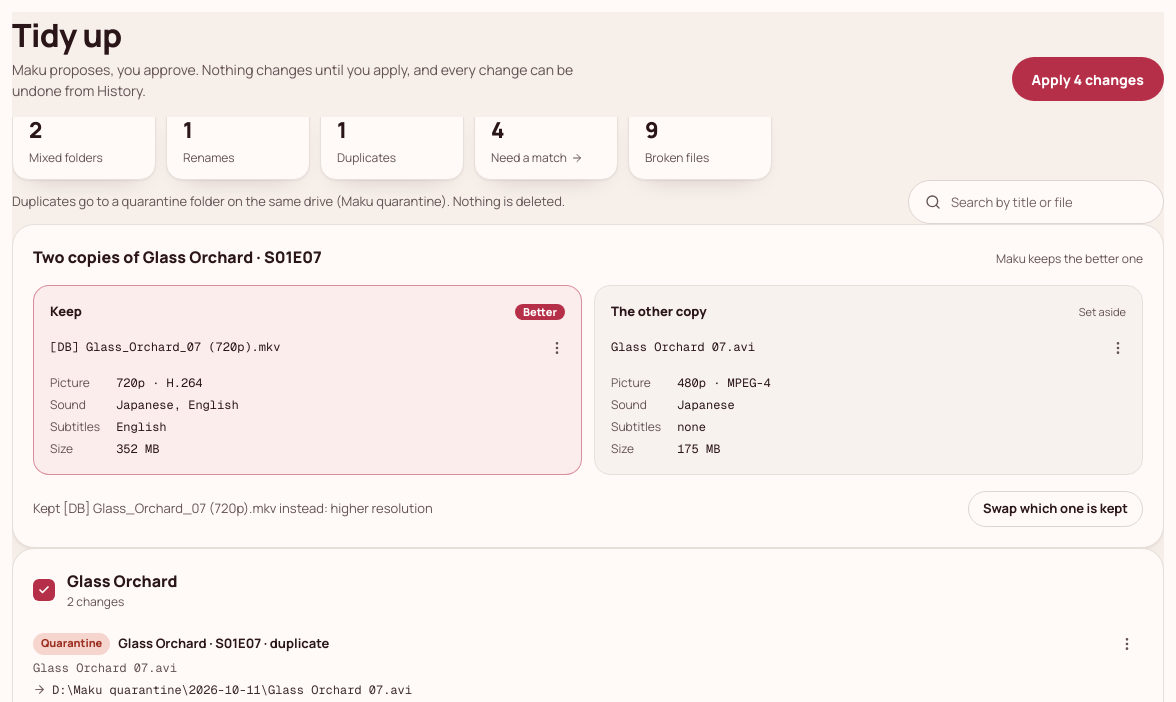
Test: TidyPage › says so when the proposal changed since it was shown
The width and height of the screenshot is (1176, 702).
Click the button "Apply 4 changes". click: (1088, 79)
box: [1012, 57, 1164, 101]
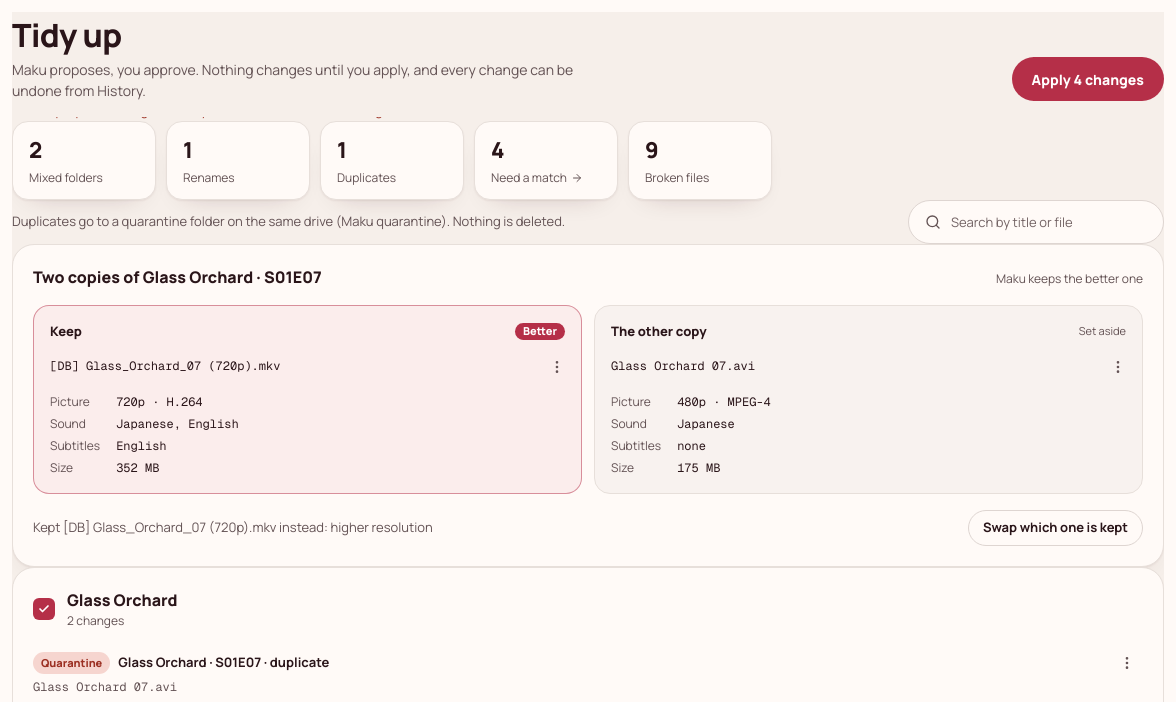
expect the message reads "Maku's proposal changed since you looked at it. Look it over again.": met, box [12, 101, 404, 119]
